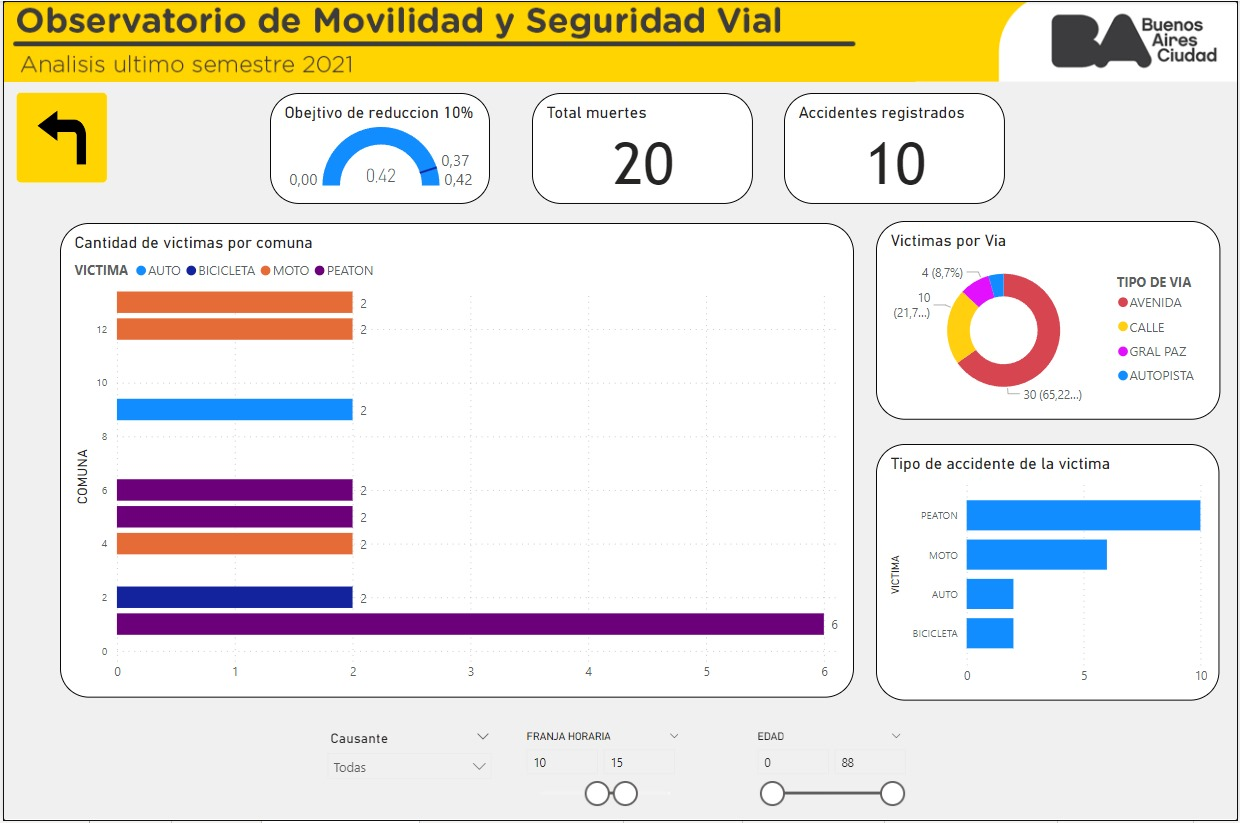

Layout of this report page (visuals, bound fields, positions):
{"tool":"powerbi","page":{"name":"Informe Homicidios","canvas":[1280,720],"ordinal":1},"visuals":[{"type":"image","box":[0,90,120,104.4],"z":0},{"type":"actionButton","title":"Borrar Segmentaciones","box":[1036.7,123.4,243.3,36.7],"z":1000},{"type":"card","title":"Total muertes","fields":{"Values":["Sum(HECHOS N.CANTIDAD VICTIMAS)"]},"box":[527.8,93.3,228.9,101.1],"z":2000},{"type":"card","title":"Accidentes registrados","fields":{"Values":["CountNonNull(HECHOS N.ID_hecho)"]},"box":[788.9,93.3,228.9,101.1],"z":3000},{"type":"kpi","title":"Reducción del 10% la Tasa de Víctimas del Último Semestre","fields":{"Indicator":["Medidas.TasaVictimasUltimoSemestre"],"Goal":["Medidas.ObjetivoVictimasSemestre"],"TrendLine":["HECHOS N.FECHA.Variación.Jerarquía de fechas.Año"]},"box":[271.1,93.3,228.9,101.1],"z":4000},{"type":"donutChart","title":"Victimas por Via","fields":{"Category":["HECHOS N.TIPO DE VIA"],"Y":["Sum(HECHOS N.CANTIDAD VICTIMAS)"]},"box":[905.4,207.8,356.7,205.6],"z":5000},{"type":"slicer","fields":{"Values":["HECHOS N.FRANJA HORARIA"]},"box":[13.3,581,243.3,118.9],"z":6000},{"type":"columnChart","title":"Tipo de accidente de la victima","fields":{"Y":["CountNonNull(HECHOS N.TIPO DE VIA)"],"Category":["HECHOS N.VICTIMA"],"Series":["HECHOS N.VICTIMA"]},"box":[905.4,433.3,356.7,266.7],"z":7000},{"type":"slicer","fields":{"Values":["HECHOS N.ACUSADO"]},"box":[13.3,338.9,243.3,225.6],"z":8000},{"type":"barChart","fields":{"Category":["HECHOS N.COMUNA","HECHOS N.TIPO DE VIA"],"Y":["Sum(HECHOS N.CANTIDAD VICTIMAS)"],"Series":["HECHOS N.VICTIMA"]},"box":[271.1,207.8,608.9,492.2],"z":9000},{"type":"slicer","fields":{"Values":["VICTIMAS N.EDAD"]},"box":[13.3,205.6,243.3,118.9],"z":10000}]}

Visuals, with their boxes on the page's 1280x720 design canvas (x1, y1, x2, y2). These are canvas units, not pixel positions in the 1240x823 screenshot, which may show the page scaled, cropped or inside an application window:
image: pyautogui.locateOnScreen(0, 90, 120, 194)
"Borrar Segmentaciones" actionButton: pyautogui.locateOnScreen(1037, 123, 1280, 160)
"Total muertes" card: pyautogui.locateOnScreen(528, 93, 757, 194)
"Accidentes registrados" card: pyautogui.locateOnScreen(789, 93, 1018, 194)
"Reducción del 10% la Tasa de Víctimas del Último Semestre" kpi: pyautogui.locateOnScreen(271, 93, 500, 194)
"Victimas por Via" donutChart: pyautogui.locateOnScreen(905, 208, 1262, 413)
slicer - HECHOS N.FRANJA HORARIA: pyautogui.locateOnScreen(13, 581, 257, 700)
"Tipo de accidente de la victima" columnChart: pyautogui.locateOnScreen(905, 433, 1262, 700)
slicer - HECHOS N.ACUSADO: pyautogui.locateOnScreen(13, 339, 257, 564)
barChart - HECHOS N.COMUNA x HECHOS N.TIPO DE VIA: pyautogui.locateOnScreen(271, 208, 880, 700)
slicer - VICTIMAS N.EDAD: pyautogui.locateOnScreen(13, 206, 257, 324)
